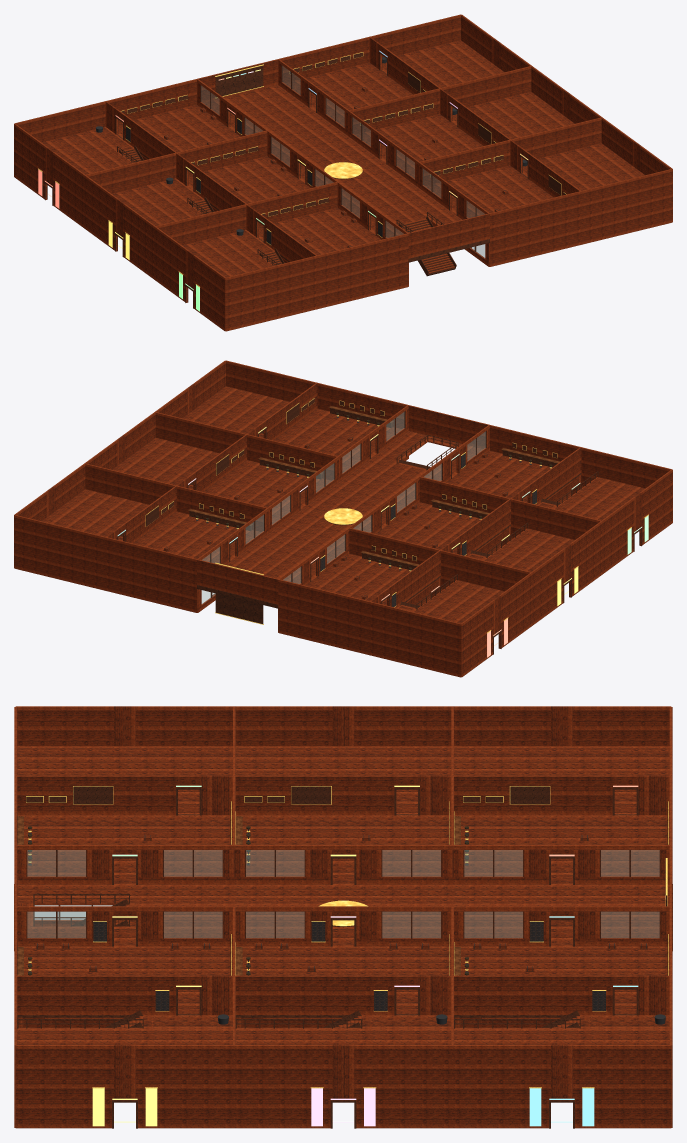
The model's file is sp_escape.glb.
3 views of the same model, one above another, from view 1: azimuth 30°, elevation 25°; view 2: azimuth 150°, elevation 25°; view 3: azimuth 270°, elevation 25° (orthographic). The views are drawn at different scales.
Visible parts, largest first — view 1: spire; view 2: spire; view 3: spire.
Boxes of the visible parts, x1,y1,x2,y2 form: spire: (14,14,672,331); spire: (14,360,672,677); spire: (14,706,672,1128).
Bounding box in the file's own units: 88.52 × 10.35 × 72.4.
Materials: 16 (6 with a texture image).
